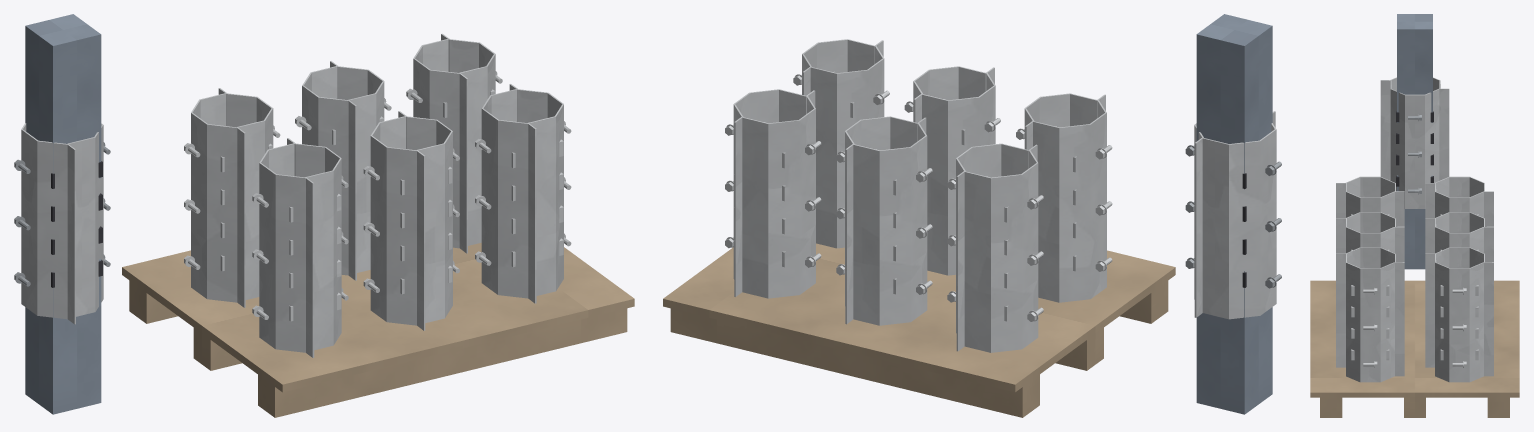
The model's file is solar-tube-connector-preassembly.glb.
3 views of the same model, side by side, from view 1: azimuth 30°, elevation 25°; view 2: azimuth 150°, elevation 25°; view 3: azimuth 270°, elevation 25° (orthographic). The views are drawn at different scales.
Visible parts, largest first — view 1: KittedPreassemblies, Pallet(context), TorqueTubes(context), PressedHalf-Shells, SeamBolts, SlottedHoles; view 2: KittedPreassemblies, Pallet(context), TorqueTubes(context), PressedHalf-Shells, SeamBolts; view 3: KittedPreassemblies, Pallet(context), PressedHalf-Shells, TorqueTubes(context), SlottedHoles.
Boxes of the visible parts, left/top/right/bottom form: KittedPreassemblies: left=184, top=33, right=571, bottom=357; Pallet(context): left=122, top=242, right=634, bottom=417; TorqueTubes(context): left=25, top=14, right=101, bottom=414; PressedHalf-Shells: left=21, top=123, right=103, bottom=324; SeamBolts: left=14, top=142, right=110, bottom=286; SlottedHoles: left=51, top=161, right=102, bottom=287; KittedPreassemblies: left=725, top=39, right=1112, bottom=352; Pallet(context): left=663, top=243, right=1175, bottom=417; TorqueTubes(context): left=1196, top=14, right=1272, bottom=414; PressedHalf-Shells: left=1194, top=111, right=1276, bottom=319; SeamBolts: left=1185, top=145, right=1281, bottom=288; KittedPreassemblies: left=1336, top=176, right=1493, bottom=382; Pallet(context): left=1310, top=280, right=1519, bottom=417; PressedHalf-Shells: left=1380, top=77, right=1449, bottom=208; TorqueTubes(context): left=1397, top=14, right=1432, bottom=269; SlottedHoles: left=1396, top=111, right=1433, bottom=186.
Bounding box in the file's own units: 1.45 × 0.95 × 0.7501.
Materials: 5 (5 with a texture image).
